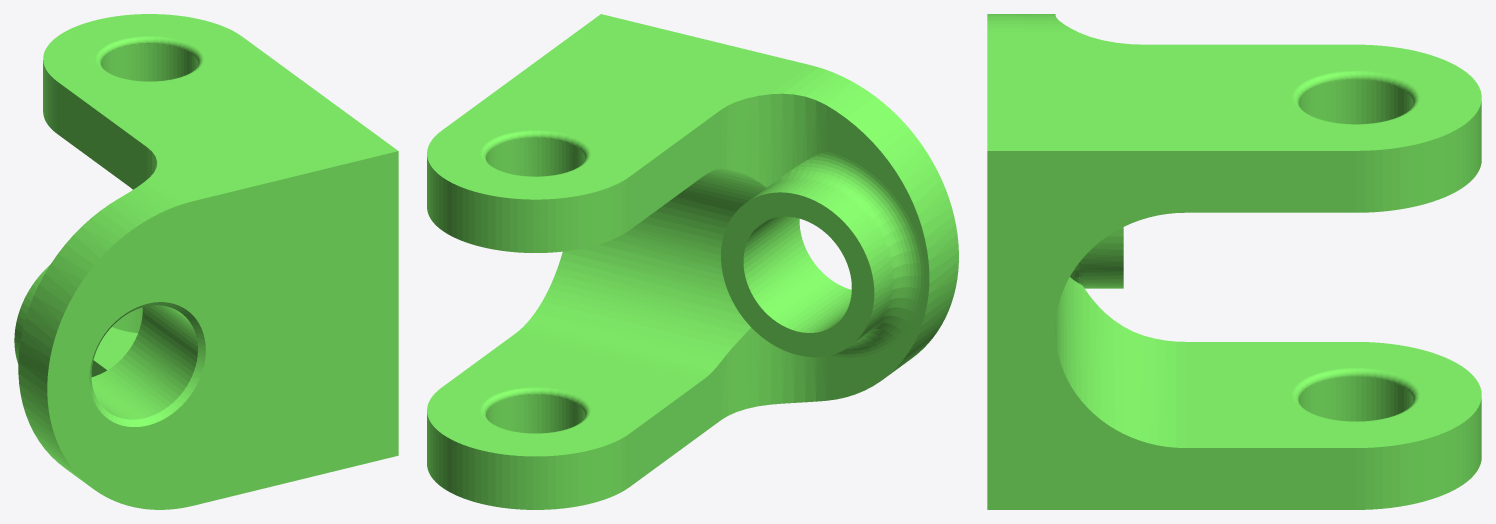
The model's file is Support_Pivots.dae.
3 renders of one model, left to right at view 1: azimuth 30°, elevation 25°; view 2: azimuth 150°, elevation 25°; view 3: azimuth 270°, elevation 25°, orthographic. The views are drawn at different scales.
Visible parts, largest first — view 1: 5df7bbafc25d67155ab15e92; view 2: 5df7bbafc25d67155ab15e92; view 3: 5df7bbafc25d67155ab15e92.
Part boxes in pixels (<box>): 5df7bbafc25d67155ab15e92: <box>14,14,398,509</box>; 5df7bbafc25d67155ab15e92: <box>427,14,958,509</box>; 5df7bbafc25d67155ab15e92: <box>987,14,1481,509</box>.
Size of the model in its own units: 0.035 by 0.0362 by 0.029.
